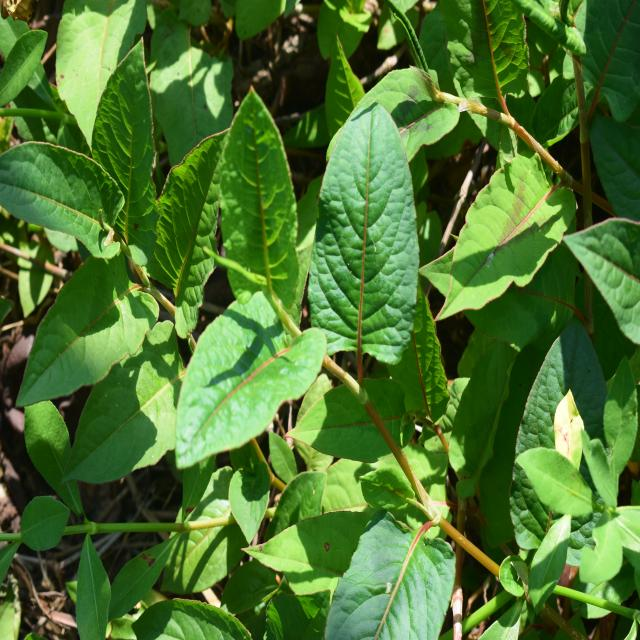Chinese_knotweed: (184, 65, 445, 470), (2, 55, 218, 471)
